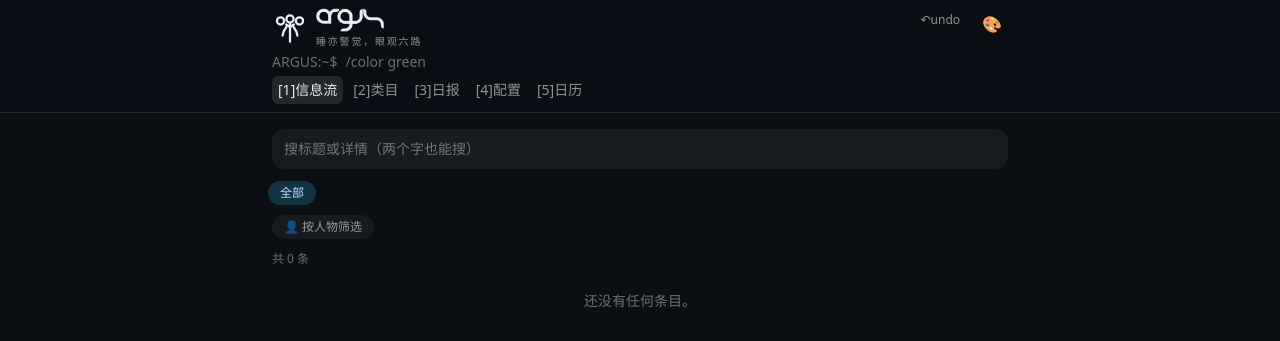
Scenario: `undoMsg` 在 ARGUS 头部里也有落点（终端风的一行小字）——功能不许少
This screenshot has width=1280, height=341.
Click the button "↶undo" at (940,20), box [912, 8, 968, 32]
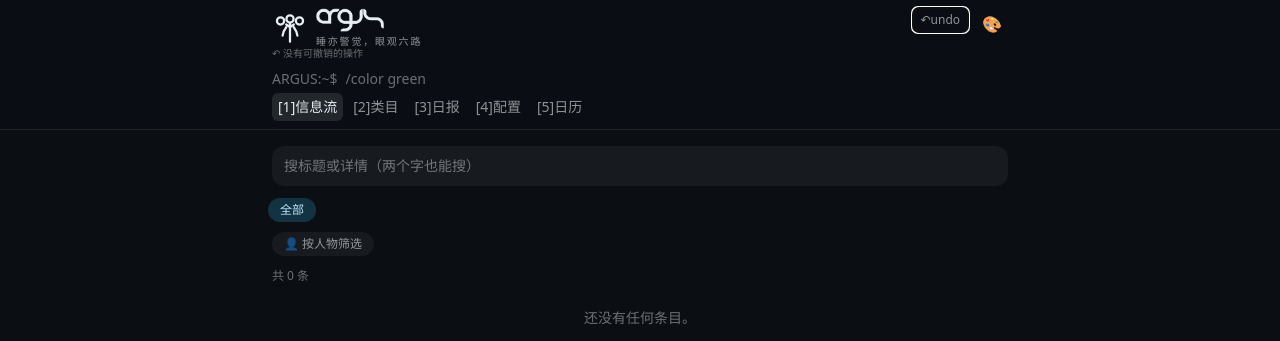
Result: the text "没有可撤销的操作" is shown at [283, 46, 363, 60]
